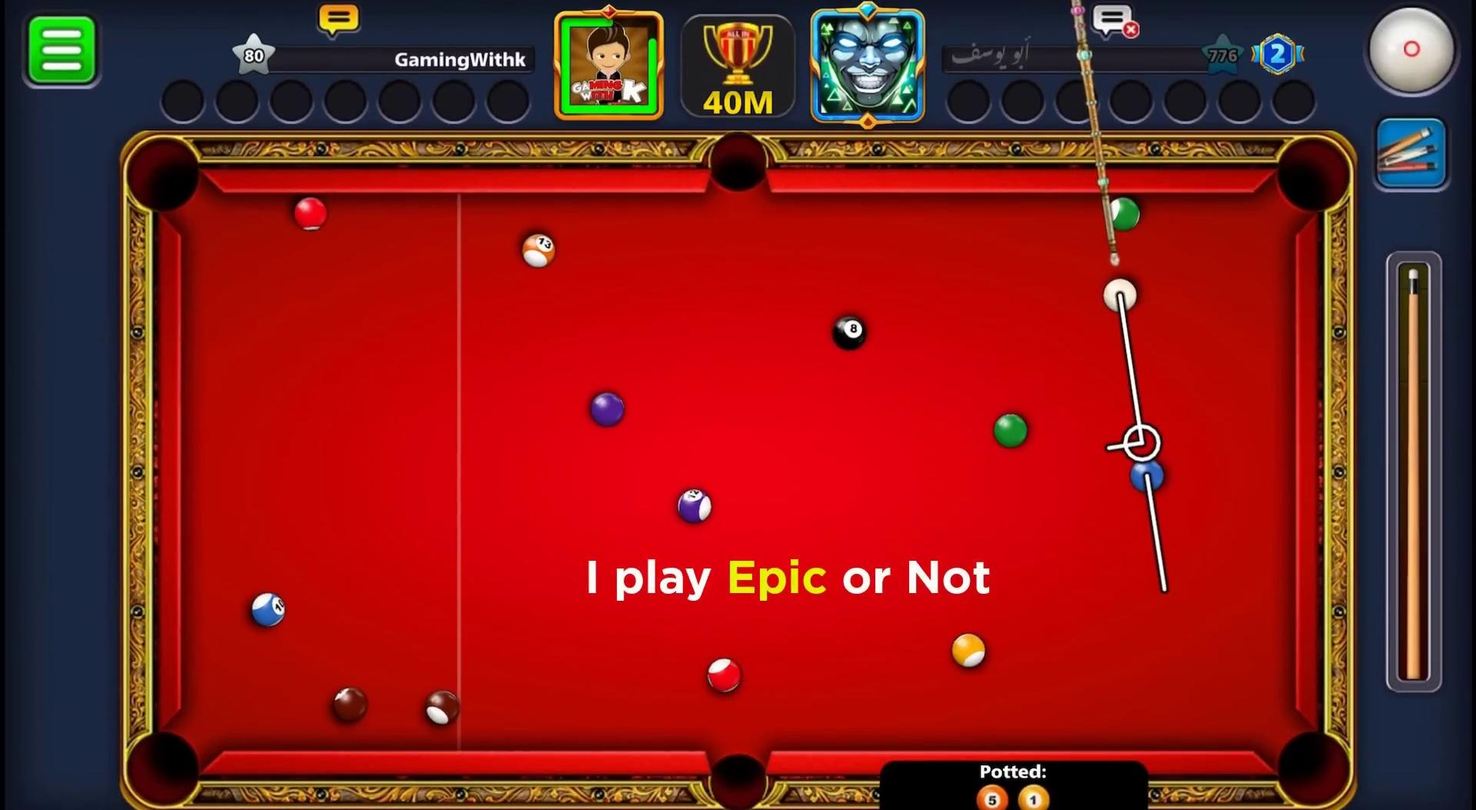Ball: (251, 594, 286, 629), (1129, 457, 1163, 492), (1108, 197, 1141, 233), (290, 197, 324, 231), (335, 688, 367, 724), (709, 658, 740, 695), (833, 314, 862, 353), (427, 691, 460, 725), (592, 392, 625, 426), (950, 634, 986, 665), (524, 237, 556, 271), (1017, 777, 1048, 810), (978, 780, 1011, 810), (996, 416, 1028, 445), (679, 489, 708, 521)
Force: (1388, 253, 1446, 699)
Guideline: (1104, 294, 1147, 455), (1144, 492, 1176, 593), (1124, 422, 1159, 464)
Hole: (1261, 722, 1357, 810), (121, 132, 197, 213), (1277, 138, 1352, 215), (120, 736, 198, 810), (704, 756, 771, 810), (708, 133, 768, 193)
Play_Area: (179, 195, 1299, 754)
Spin: (1373, 5, 1461, 98)
White: (1099, 277, 1142, 315)
